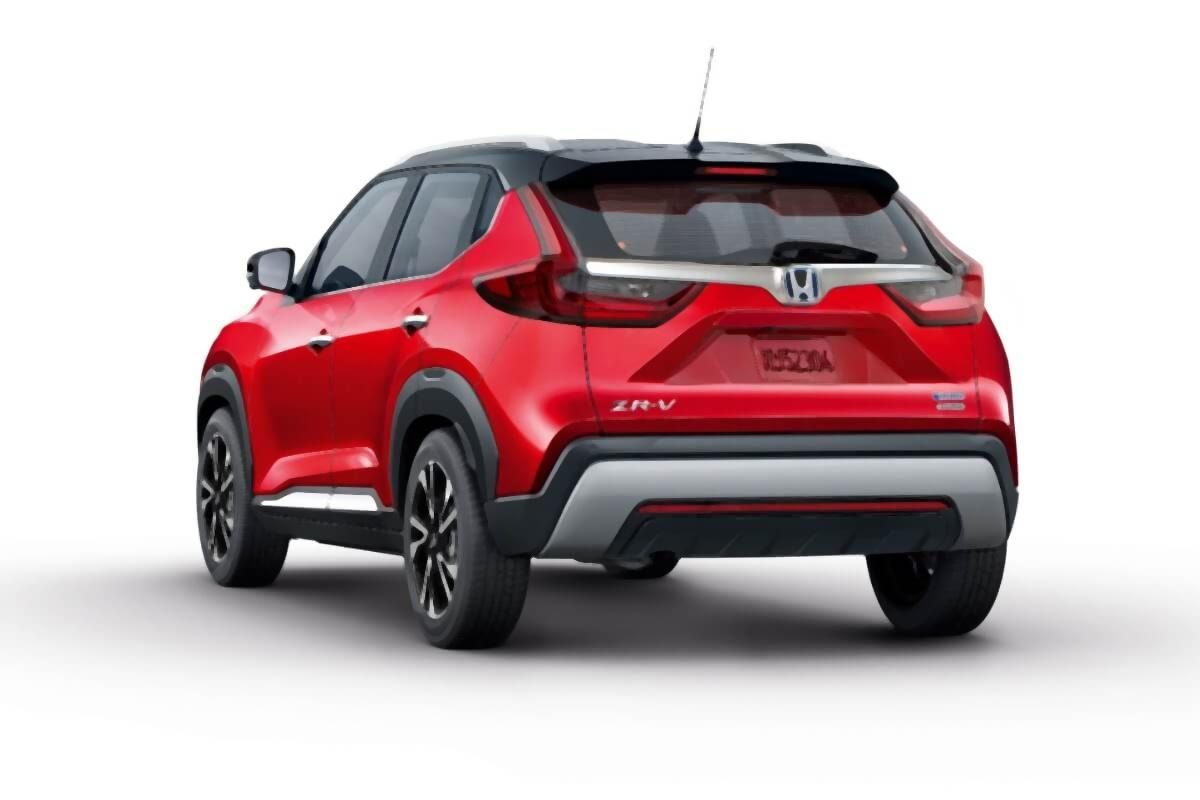Car boot: (538, 143, 995, 434)
Fender - -F-L-: (186, 273, 289, 527)
Fender - -R-L-: (388, 148, 543, 493)
Passenger-s door - -F-L-: (264, 146, 423, 552)
Passenger-s door - -R-L-: (324, 136, 494, 555)
Rear bumper: (476, 428, 1028, 567)
Rear light - -L-: (468, 181, 700, 327)
Rear light - -R-: (876, 193, 985, 326)
Side bumper - -L-: (248, 484, 419, 570)
Side mirror - -L-: (245, 249, 310, 309)
